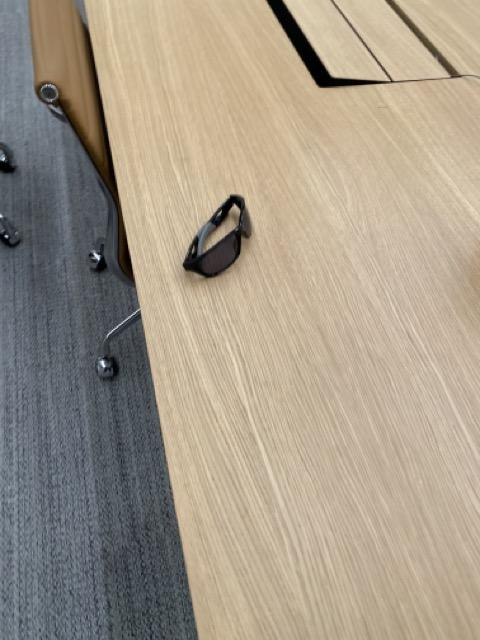Sunglasses: (182, 192, 255, 281)
